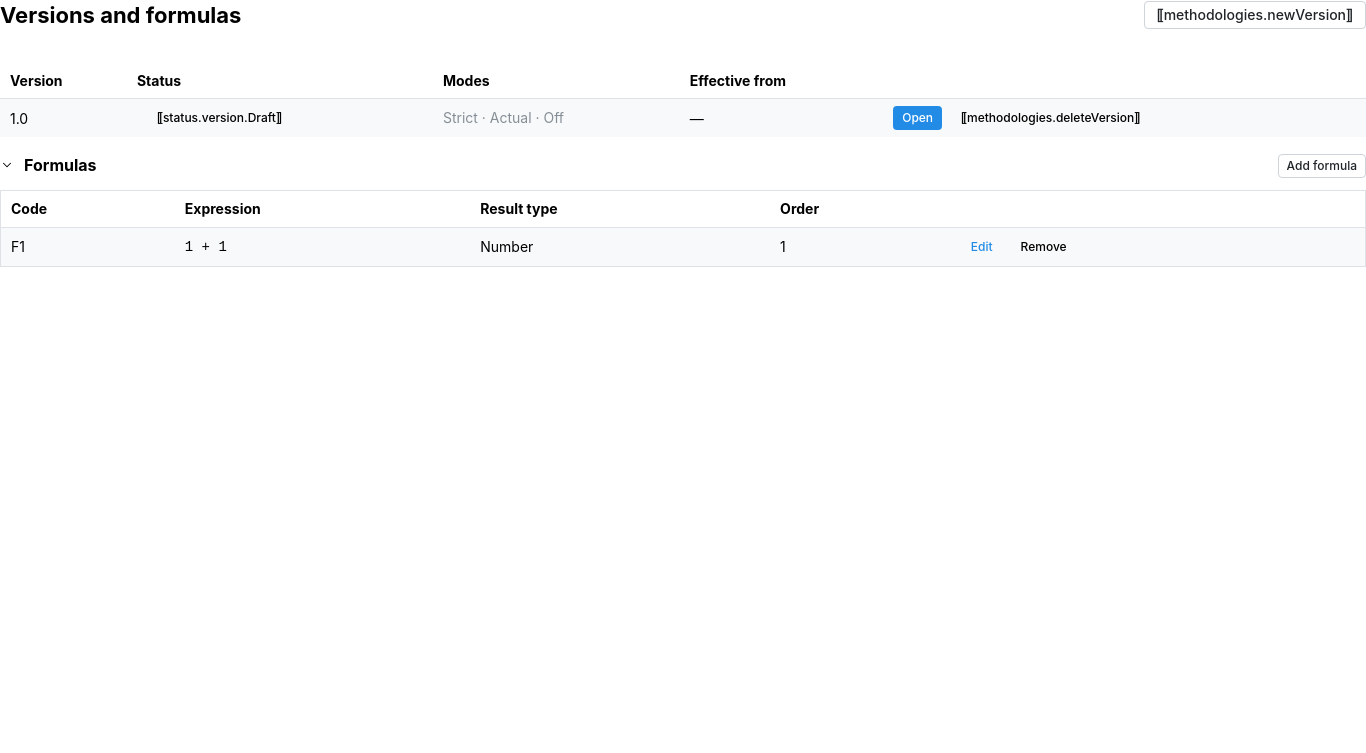
Test case: MethodologyVersionsPage: видалення формули питає підтвердження › клік по «Remove» у рядку НЕ шле DELETE і НЕ прибирає формулу — лише відкриває модалку
Expected: the text "F1" is shown, [0, 228, 175, 267]
Click the button "Remove". click: (1044, 247)
box: [1012, 235, 1076, 259]
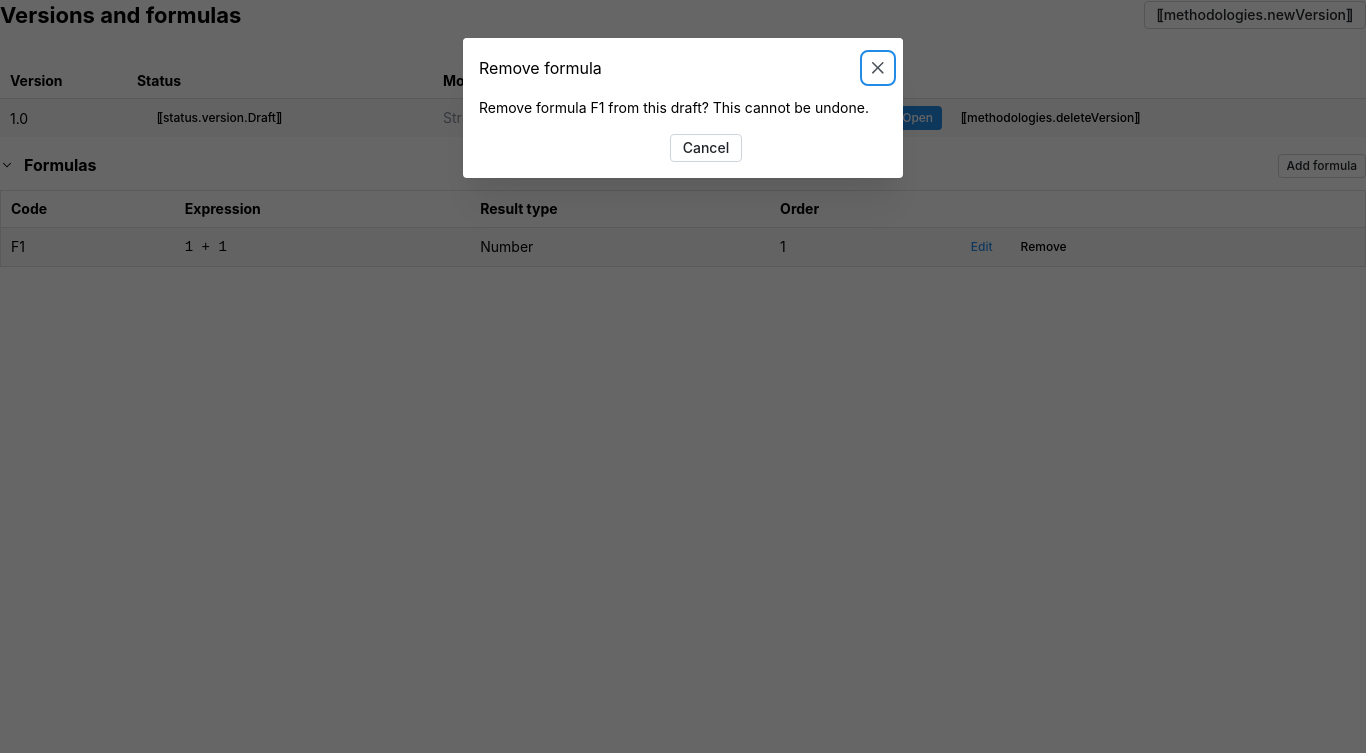
Expected: the text "F1" is shown, [0, 228, 175, 267]
Now the dialog "Remove formula" is shown, box [463, 38, 903, 179]
# Скасування — формула лишається, запиту й досі не було.
Click the button "Cancel". click: (706, 149)
box: [670, 135, 742, 163]
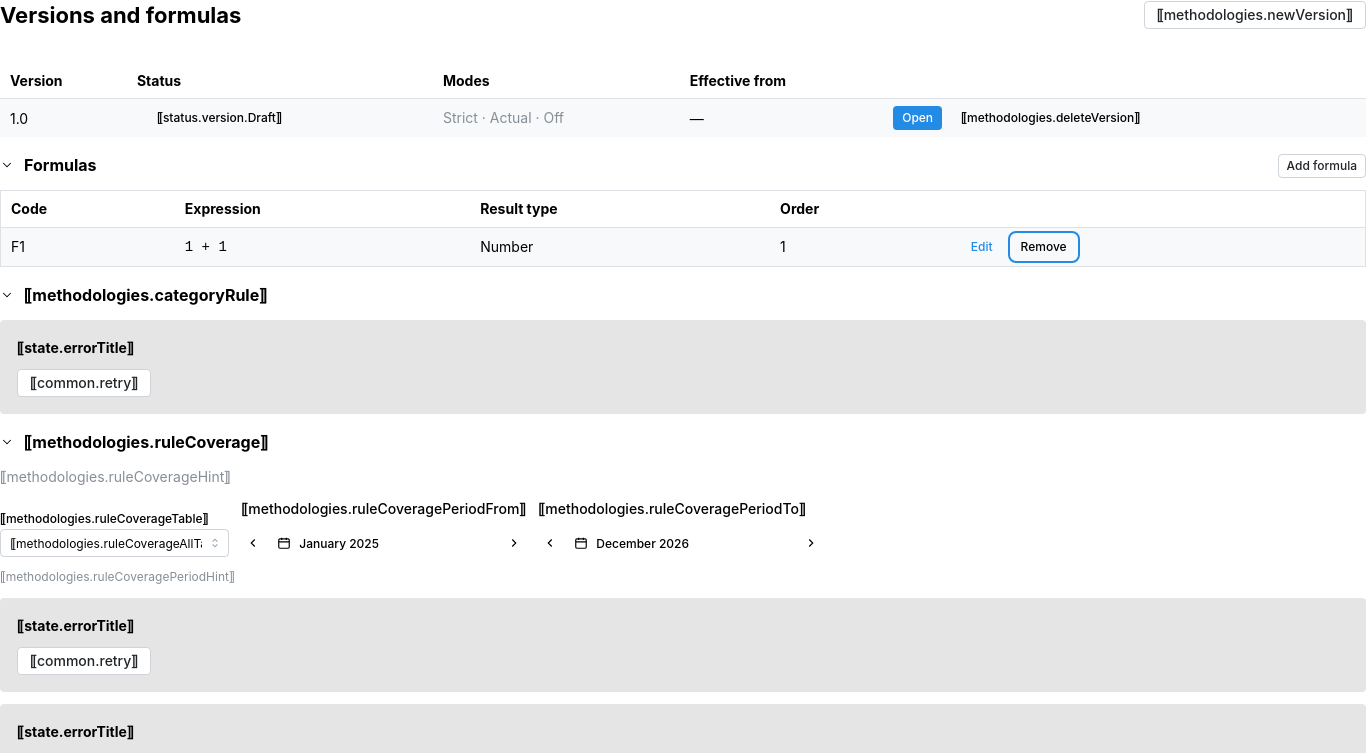
Expected: the text "F1" is shown, [0, 228, 175, 267]
Now the dialog is gone
